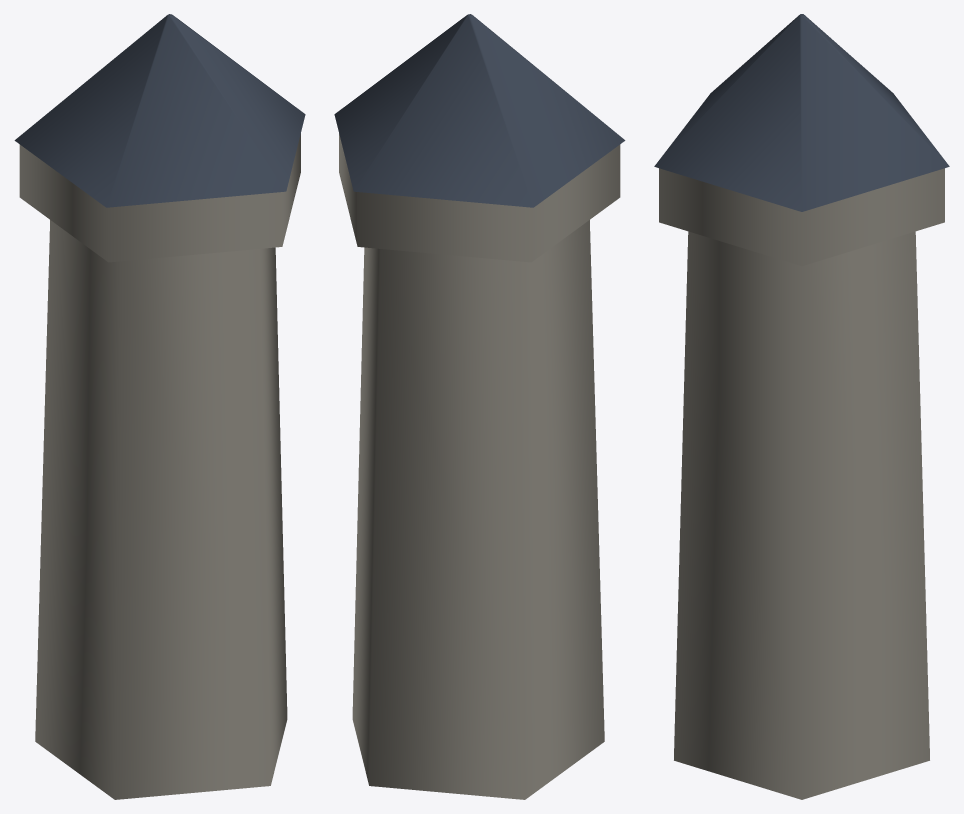
The model's file is bld_special_tower_a03_lod2.glb.
3 renders of one model, left to right at view 1: azimuth 30°, elevation 25°; view 2: azimuth 150°, elevation 25°; view 3: azimuth 270°, elevation 25°, orthographic.
Parts seen in each view (by area): view 1: body; view 2: body; view 3: body.
Boxes of the visible parts, x1,y1,x2,y2 form: body: [14, 14, 305, 799]; body: [334, 14, 625, 799]; body: [654, 14, 949, 799].
Bounding box in the file's own units: 5.43 × 15.5 × 5.71.
